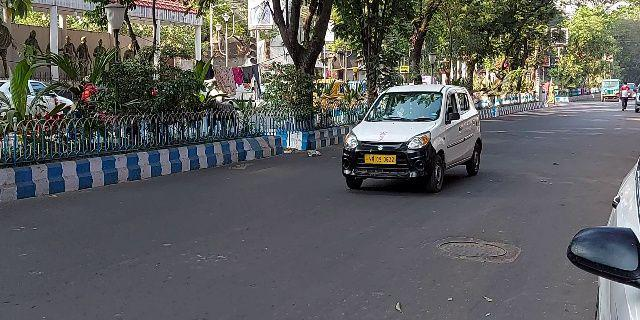Car: (338, 82, 485, 195)
